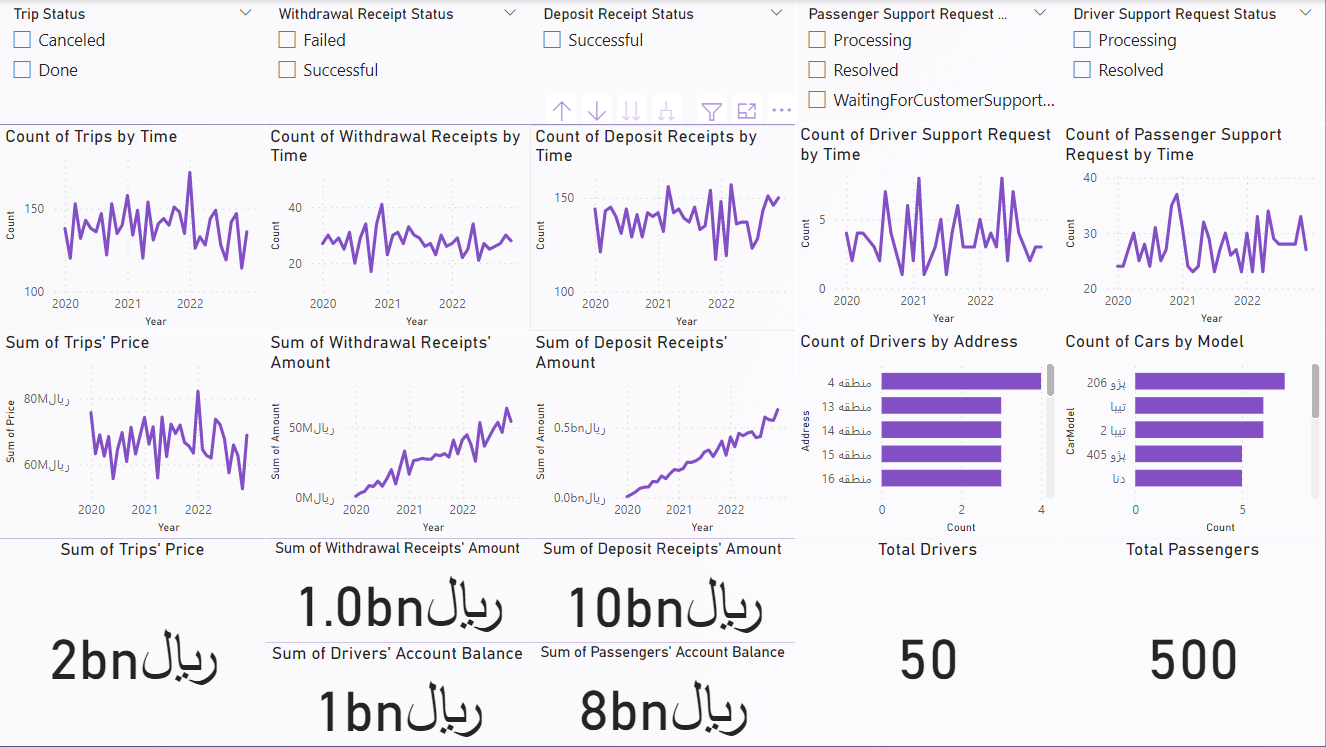

The dashboard page shown, as its layout file describes it:
{"tool":"powerbi","page":{"name":"KPIs","canvas":[1280,720],"ordinal":0},"visuals":[{"type":"lineChart","title":"Count of Trips by Time","fields":{"Category":["Trip.RequestDateTime.Variation.Date Hierarchy.Year","Trip.RequestDateTime.Variation.Date Hierarchy.Quarter","Trip.RequestDateTime.Variation.Date Hierarchy.Month"],"Y":["CountNonNull(Trip.ID)"]},"box":[0,120,256,200],"z":0},{"type":"lineChart","title":"Sum of Trips'' Price","fields":{"Category":["Trip.RequestDateTime.Variation.Date Hierarchy.Year","Trip.RequestDateTime.Variation.Date Hierarchy.Quarter","Trip.RequestDateTime.Variation.Date Hierarchy.Month"],"Y":["Sum(Trip.Price)"]},"box":[0,320,256,200],"z":1000},{"type":"slicer","fields":{"Values":["Trip.Status"]},"box":[0,0,255.7,120],"z":2000},{"type":"slicer","fields":{"Values":["WithdrawalReceipt.Status"]},"box":[255.7,0,255.7,120],"z":3000},{"type":"lineChart","title":"Count of Withdrawal Receipts by Time","fields":{"Category":["WithdrawalReceipt.DateTime.Variation.Date Hierarchy.Year","WithdrawalReceipt.DateTime.Variation.Date Hierarchy.Quarter","WithdrawalReceipt.DateTime.Variation.Date Hierarchy.Month"],"Y":["CountNonNull(WithdrawalReceipt.Status)"]},"box":[255.7,120,255.7,200],"z":4000},{"type":"slicer","fields":{"Values":["DepositReceipt.Status"]},"box":[511.4,0,256,120],"z":5000},{"type":"lineChart","title":"Count of Deposit Receipts by Time","fields":{"Category":["DepositReceipt.DateTime.Variation.Date Hierarchy.Year","DepositReceipt.DateTime.Variation.Date Hierarchy.Quarter","DepositReceipt.DateTime.Variation.Date Hierarchy.Month"],"Y":["CountNonNull(DepositReceipt.Status)"]},"box":[511.7,120,256,200],"z":6000},{"type":"lineChart","title":"Sum of Withdrawal Receipts'' Amount","fields":{"Category":["WithdrawalReceipt.DateTime.Variation.Date Hierarchy.Year","WithdrawalReceipt.DateTime.Variation.Date Hierarchy.Quarter","WithdrawalReceipt.DateTime.Variation.Date Hierarchy.Month"],"Y":["Sum(WithdrawalReceipt.Amount)"]},"box":[255.7,320,255.7,200],"z":7000},{"type":"lineChart","title":"Sum of Deposit Receipts'' Amount","fields":{"Category":["DepositReceipt.DateTime.Variation.Date Hierarchy.Year","DepositReceipt.DateTime.Variation.Date Hierarchy.Quarter","DepositReceipt.DateTime.Variation.Date Hierarchy.Month"],"Y":["Sum(DepositReceipt.Amount)"]},"box":[510,320,256.4,200],"z":8000},{"type":"lineChart","title":"Count of Driver Support Request by Time","fields":{"Category":["DriverSupportRequest.StartDateTime.Variation.Date Hierarchy.Year","DriverSupportRequest.StartDateTime.Variation.Date Hierarchy.Quarter","DriverSupportRequest.StartDateTime.Variation.Date Hierarchy.Month"],"Y":["CountNonNull(DriverSupportRequest.Status)"]},"box":[766.9,120,256.2,200],"z":9000},{"type":"lineChart","title":"Count of Passenger Support Request by Time","fields":{"Category":["PassengerSupportRequest.StartDateTime.Variation.Date Hierarchy.Year","PassengerSupportRequest.StartDateTime.Variation.Date Hierarchy.Quarter","PassengerSupportRequest.StartDateTime.Variation.Date Hierarchy.Month"],"Y":["CountNonNull(PassengerSupportRequest.Status)"]},"box":[1022.5,120,256.7,200],"z":10000},{"type":"slicer","fields":{"Values":["PassengerSupportRequest.Status"]},"box":[767.1,0,255.7,120],"z":11000},{"type":"slicer","fields":{"Values":["DriverSupportRequest.Status"]},"box":[1022.3,0,256.2,120],"z":12000},{"type":"card","title":"Sum of Trips'' Price","fields":{"Values":["Sum(Trip.Price)"]},"box":[0,520,255.7,200],"z":13000},{"type":"card","title":"Sum of Withdrawal Receipts'' Amount","fields":{"Values":["Sum(WithdrawalReceipt.Amount)"]},"box":[255.7,519.8,255.7,100.1],"z":14000},{"type":"card","title":"Sum of Deposit Receipts'' Amount","fields":{"Values":["Sum(DepositReceipt.Amount)"]},"box":[510.9,520,256.4,100],"z":15000},{"type":"card","title":"Sum of Drivers'' Account Balance","fields":{"Values":["Sum(Driver.AccountBalance)"]},"box":[255.7,619.9,255.7,100.1],"z":16000},{"type":"card","title":"Sum of Passengers'' Account Balance","fields":{"Values":["Sum(Passenger.AccountBalance)"]},"box":[511.4,619.9,255.7,100.1],"z":17000},{"type":"barChart","title":"Count of Cars by Model","fields":{"Category":["Driver.CarModel"],"Y":["CountNonNull(Driver.NationalID)"]},"box":[1022.5,320,256.2,200],"z":18000},{"type":"barChart","title":"Count of Drivers by Address","fields":{"Category":["Driver.Address"],"Y":["CountNonNull(Driver.NationalID)"]},"box":[766.2,320,259.2,200],"z":19000},{"type":"card","title":"Total Drivers","fields":{"Values":["CountNonNull(Driver.NationalID)"]},"box":[766.2,520,256.2,200],"z":20000},{"type":"card","title":"Total Passengers","fields":{"Values":["CountNonNull(Passenger.PhoneNumber)"]},"box":[1021.2,520,257.5,200],"z":21000}]}

Visuals, with their boxes in screenshot pixels (x1, y1, x2, y2), scaled from the page's 1280x720 canvas onto the 1326x747 screenshot:
"Count of Trips by Time" lineChart: (0,125,265,332)
"Sum of Trips'' Price" lineChart: (0,332,265,540)
slicer - Trip.Status: (0,0,265,125)
slicer - WithdrawalReceipt.Status: (265,0,530,125)
"Count of Withdrawal Receipts by Time" lineChart: (265,125,530,332)
slicer - DepositReceipt.Status: (530,0,795,125)
"Count of Deposit Receipts by Time" lineChart: (530,125,795,332)
"Sum of Withdrawal Receipts'' Amount" lineChart: (265,332,530,540)
"Sum of Deposit Receipts'' Amount" lineChart: (528,332,794,540)
"Count of Driver Support Request by Time" lineChart: (794,125,1060,332)
"Count of Passenger Support Request by Time" lineChart: (1059,125,1325,332)
slicer - PassengerSupportRequest.Status: (795,0,1060,125)
slicer - DriverSupportRequest.Status: (1059,0,1324,125)
"Sum of Trips'' Price" card: (0,540,265,746)
"Sum of Withdrawal Receipts'' Amount" card: (265,539,530,643)
"Sum of Deposit Receipts'' Amount" card: (529,540,795,643)
"Sum of Drivers'' Account Balance" card: (265,643,530,746)
"Sum of Passengers'' Account Balance" card: (530,643,795,746)
"Count of Cars by Model" barChart: (1059,332,1325,540)
"Count of Drivers by Address" barChart: (794,332,1062,540)
"Total Drivers" card: (794,540,1059,746)
"Total Passengers" card: (1058,540,1325,746)
